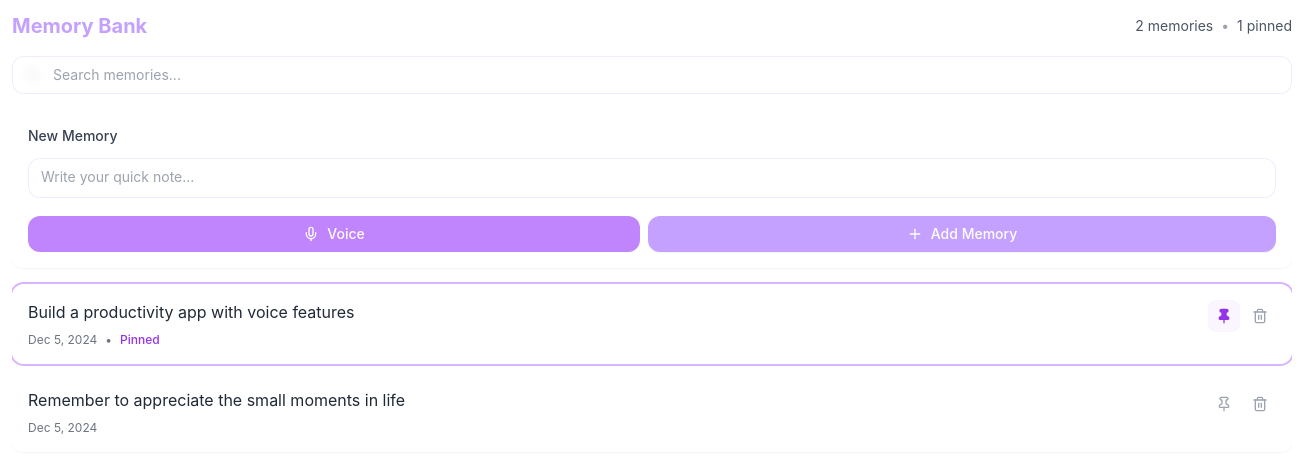
Test: MemoryBank Component › should pin memory
Step 1. Click the button titled "Pin" → point(1224, 404), box [1208,388,1240,420]
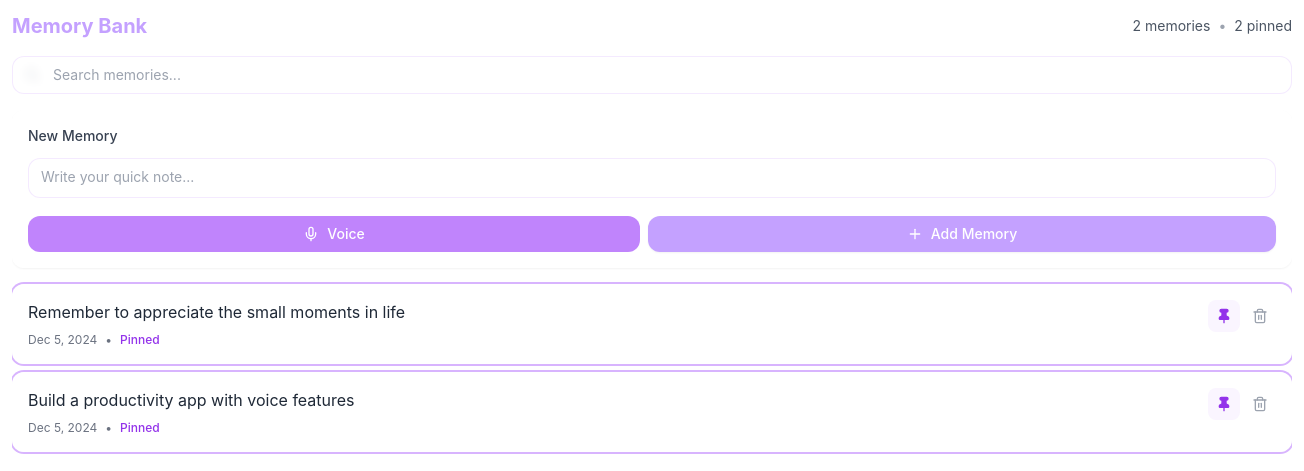
Expected: the text "Pinned" is shown 2 times, [120,332,160,348]; [120,420,160,436]
